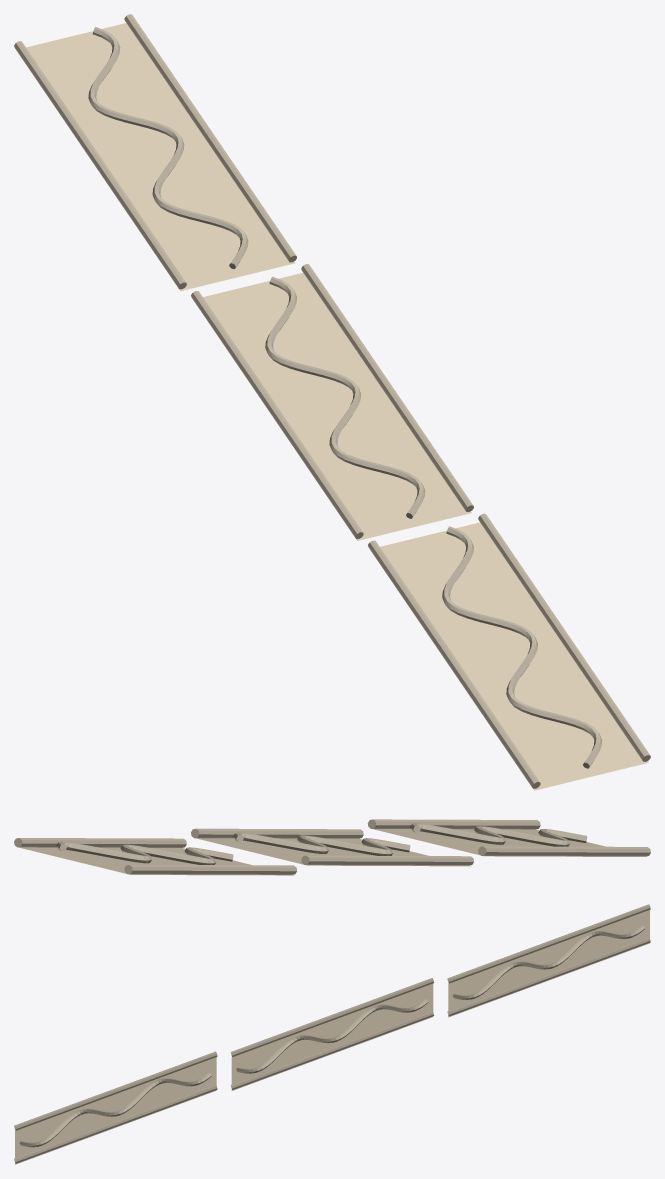
The model's file is SM_07_ImperialWay_South.fbx.
The picture shows the model from 3 angles, top to bottom: view 1: azimuth 30°, elevation 25°; view 2: azimuth 150°, elevation 25°; view 3: azimuth 270°, elevation 25°; orthographic projection. The views are drawn at different scales.
Parts seen in each view (by area): view 1: ImperialWay_South; view 2: ImperialWay_South; view 3: ImperialWay_South.
Part boxes in pixels (bbox=[...]): ImperialWay_South: bbox=[14, 14, 650, 790]; ImperialWay_South: bbox=[14, 819, 650, 875]; ImperialWay_South: bbox=[14, 904, 650, 1164].
Bounding box in the file's own units: 155 × 1176 × 462.
